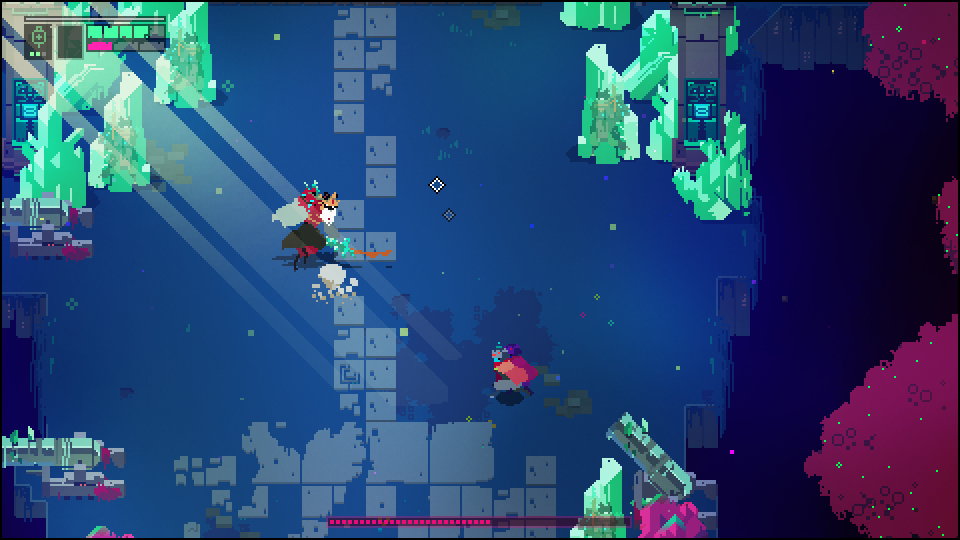hanged_man: (269, 178, 372, 271)
player: (489, 343, 533, 398)
